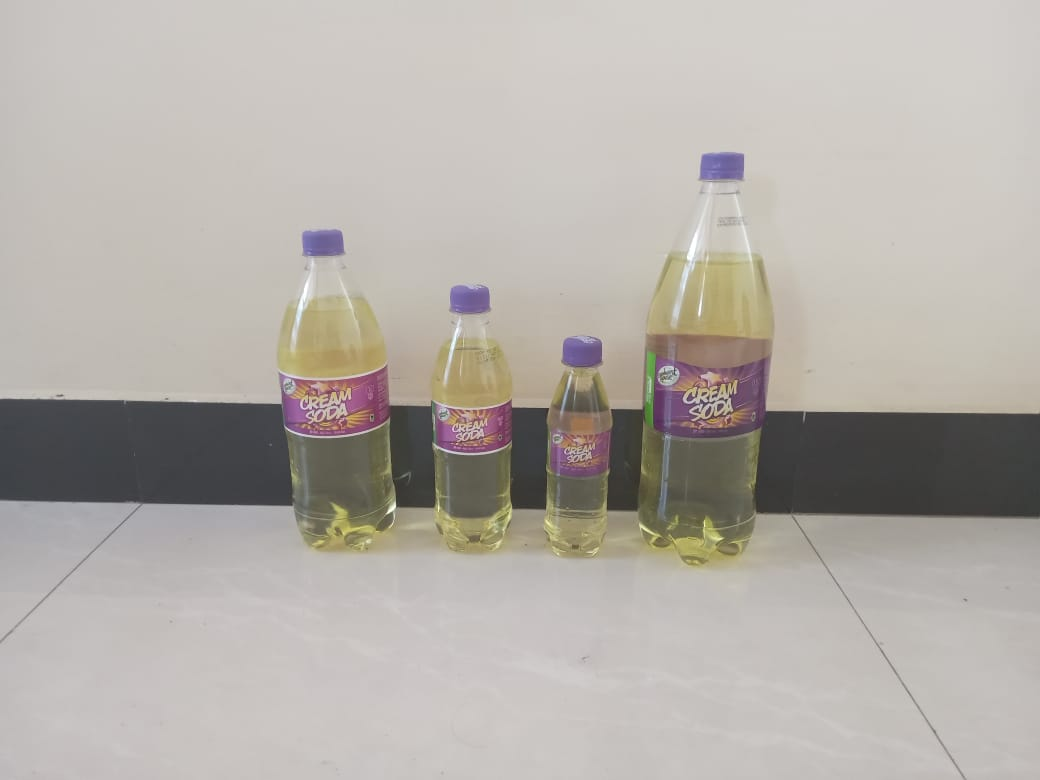L: (638, 153, 776, 570)
M: (272, 226, 399, 554)
S: (427, 287, 516, 554)
Xs: (541, 329, 613, 561)
